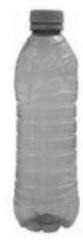plastic: (14, 8, 80, 232)
